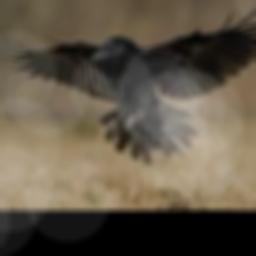Crow: (0, 1, 256, 162)
